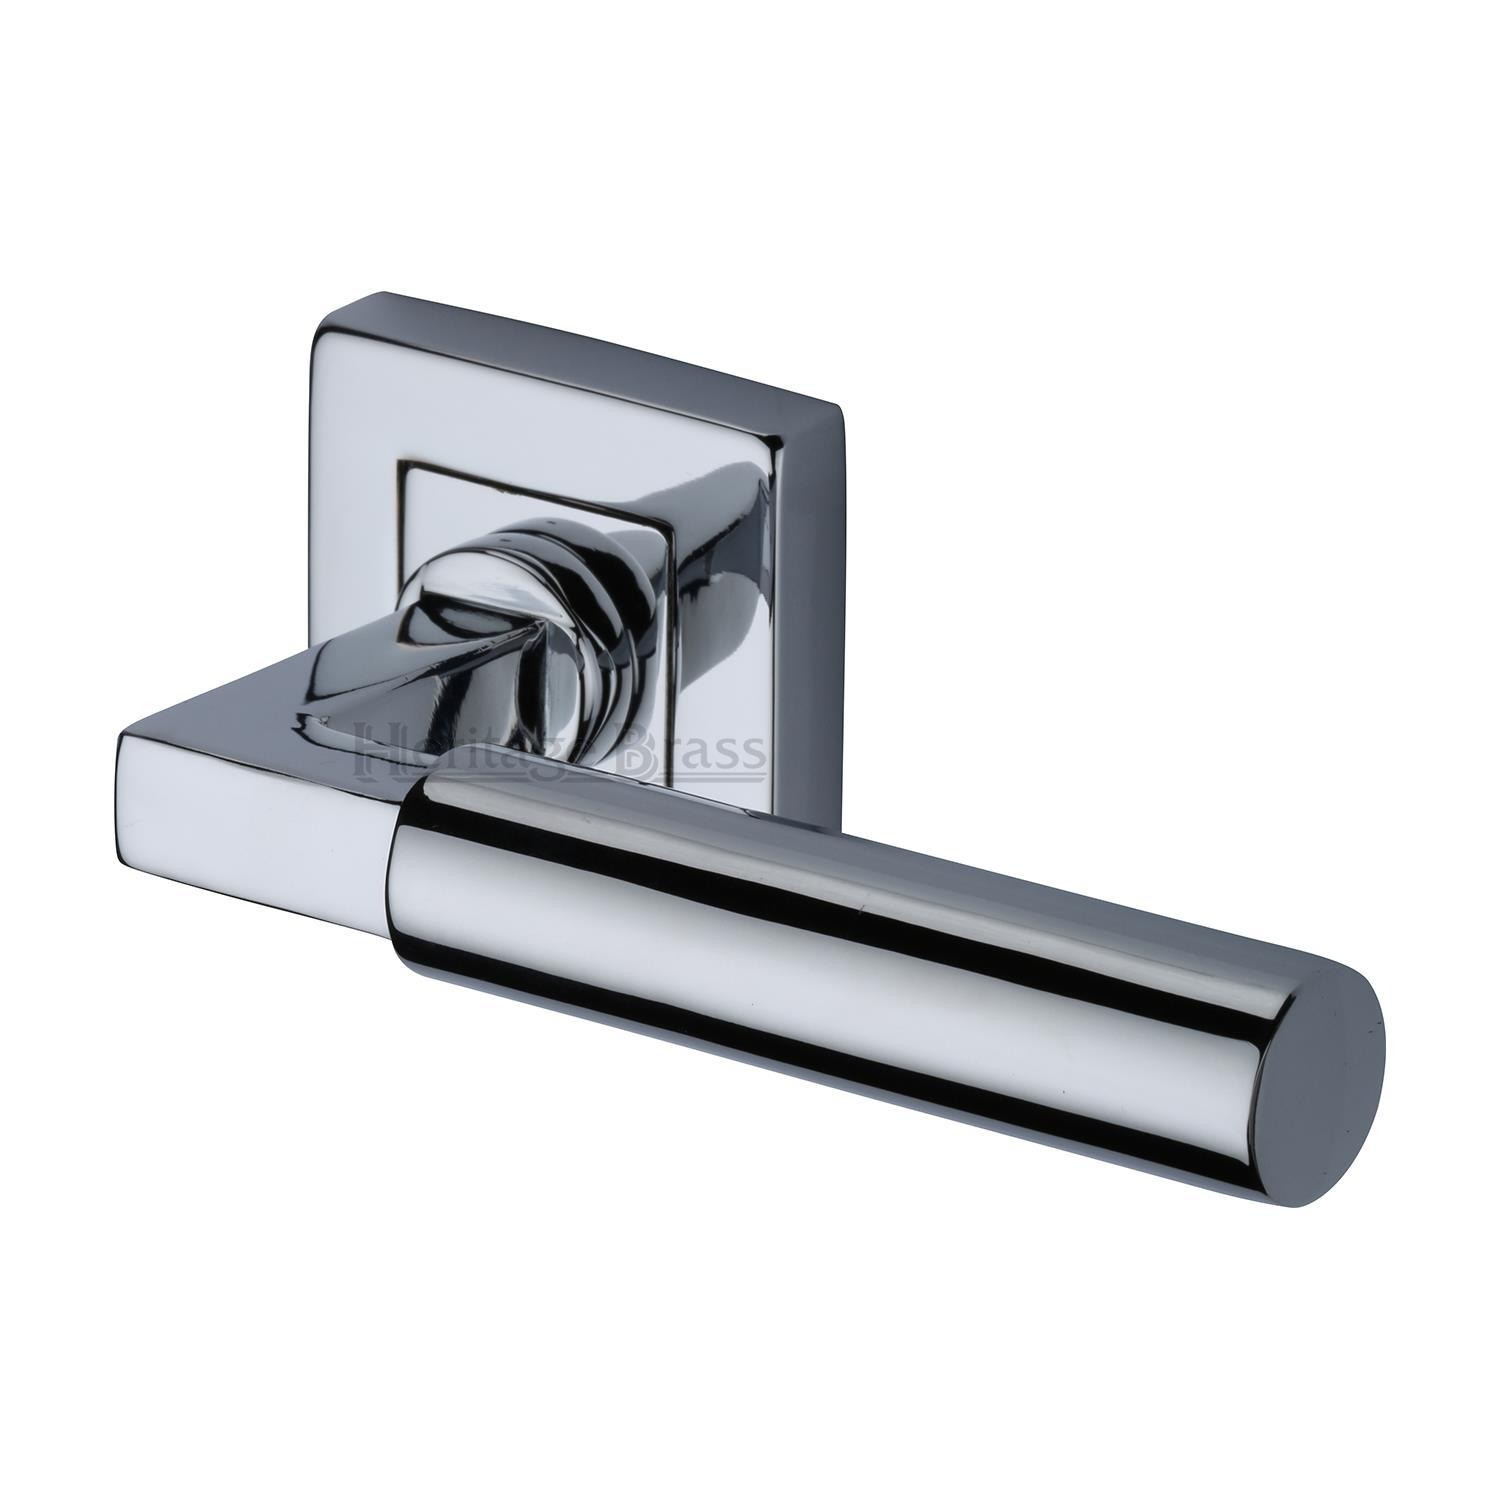doorhandle: (88, 591, 1402, 1210)
